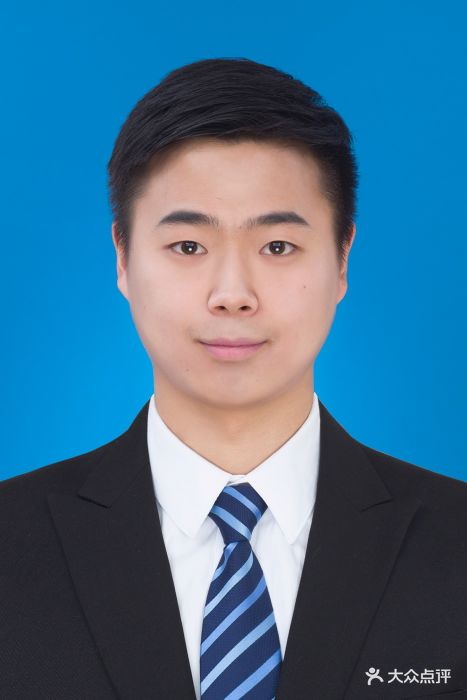unmask: (141, 143, 329, 386)
